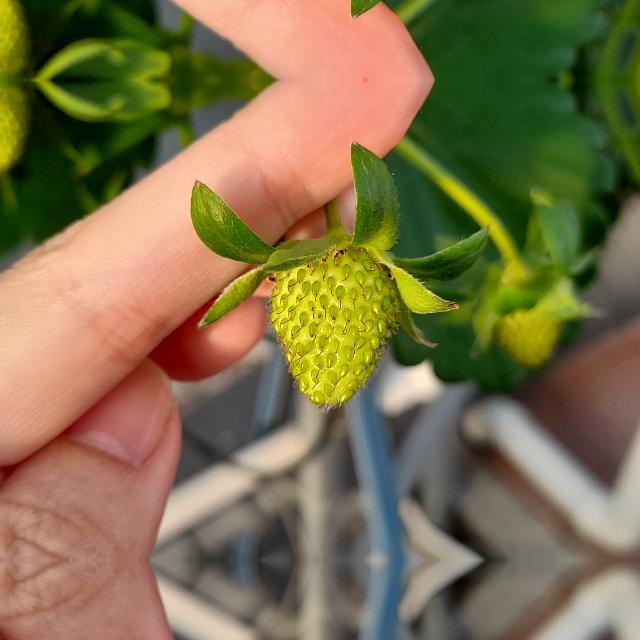Health_25: (264, 248, 406, 414)
